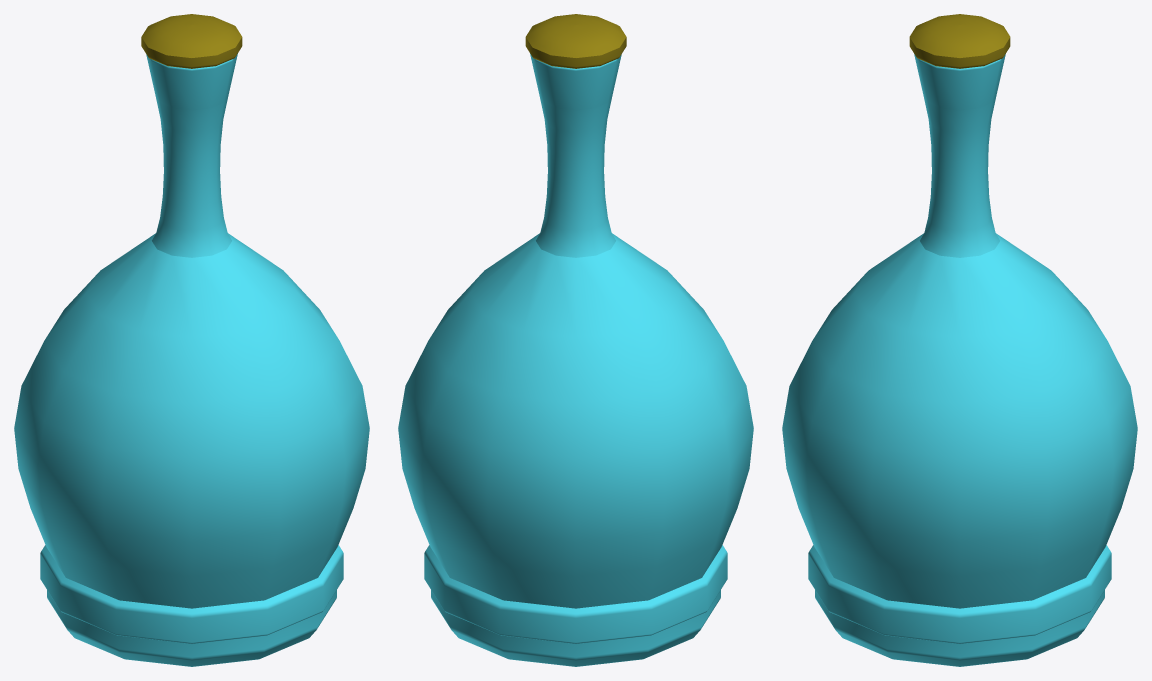
Rendered from potion06.FBX.
3 views of the same model, side by side, from view 1: azimuth 30°, elevation 25°; view 2: azimuth 150°, elevation 25°; view 3: azimuth 270°, elevation 25° (orthographic).
Parts seen in each view (by area): view 1: potion_06glass; view 2: potion_06glass; view 3: potion_06glass.
Part boxes in pixels (x1=…): potion_06glass: x1=14, y1=14, x2=369, y2=666; potion_06glass: x1=398, y1=14, x2=753, y2=666; potion_06glass: x1=782, y1=14, x2=1137, y2=666.
Bounding box in the file's own units: 28.24 × 51.31 × 28.24.
